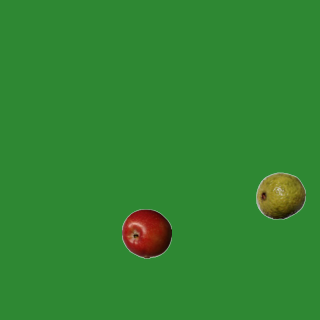Apple Braeburn: (121, 208, 171, 258)
Guava: (255, 170, 305, 220)
